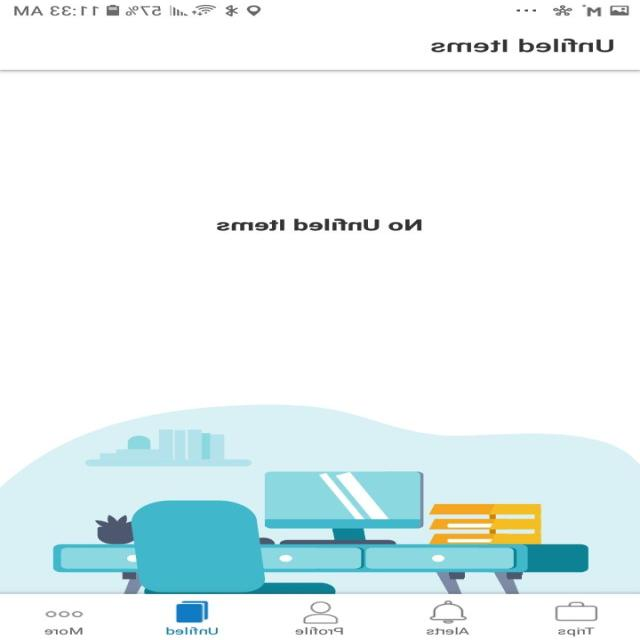Icon: (554, 601, 598, 621), (430, 600, 468, 623), (303, 600, 339, 624), (176, 600, 209, 623), (46, 610, 84, 617)
Image: (1, 404, 640, 594)
Text: (431, 38, 614, 53), (217, 218, 422, 231), (167, 626, 220, 634), (295, 626, 344, 634), (557, 626, 595, 636), (426, 626, 469, 634), (46, 626, 84, 634)
